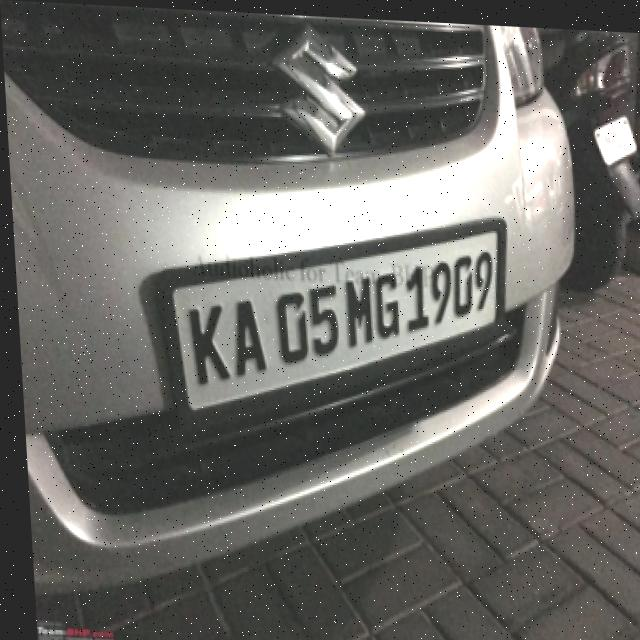plate: (139, 194, 512, 442), (590, 108, 637, 165)
